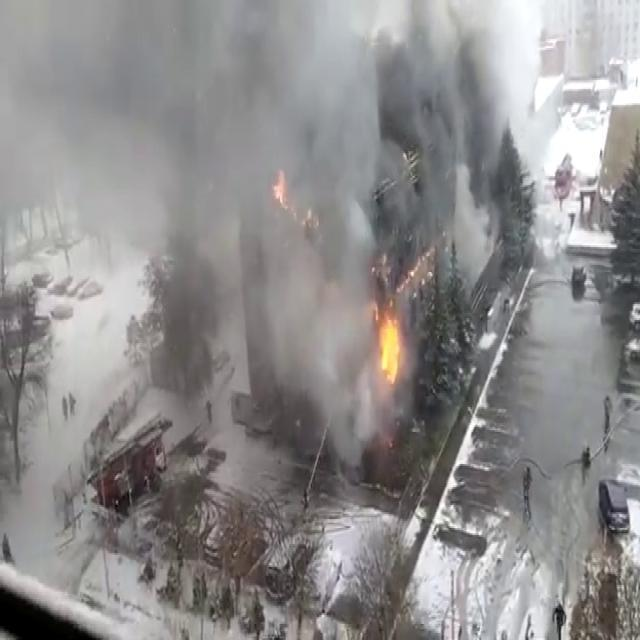Fire: (370, 287, 406, 394)
Smoke: (64, 0, 526, 469)
